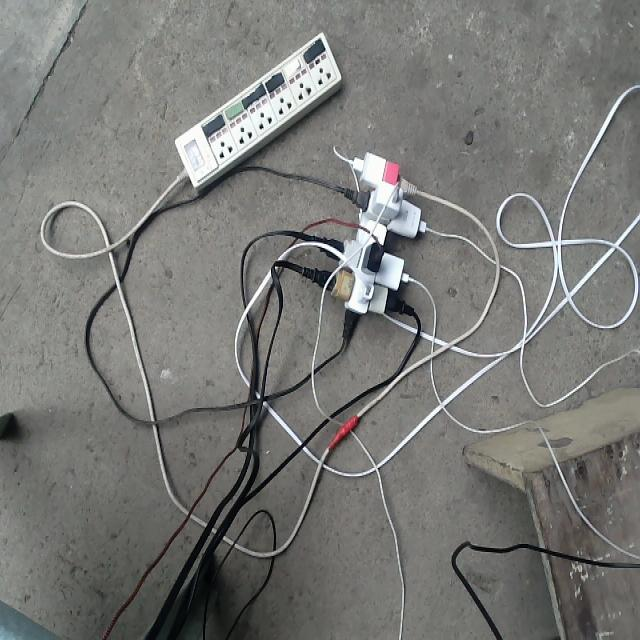-: (299, 152, 427, 340)
